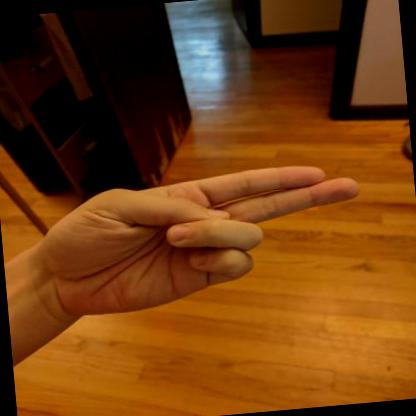H: (39, 166, 359, 324)
